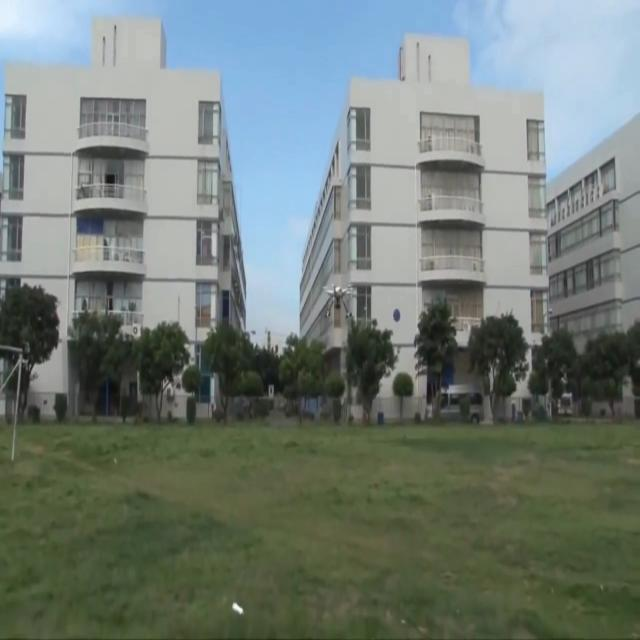drone: (322, 283, 354, 318)
